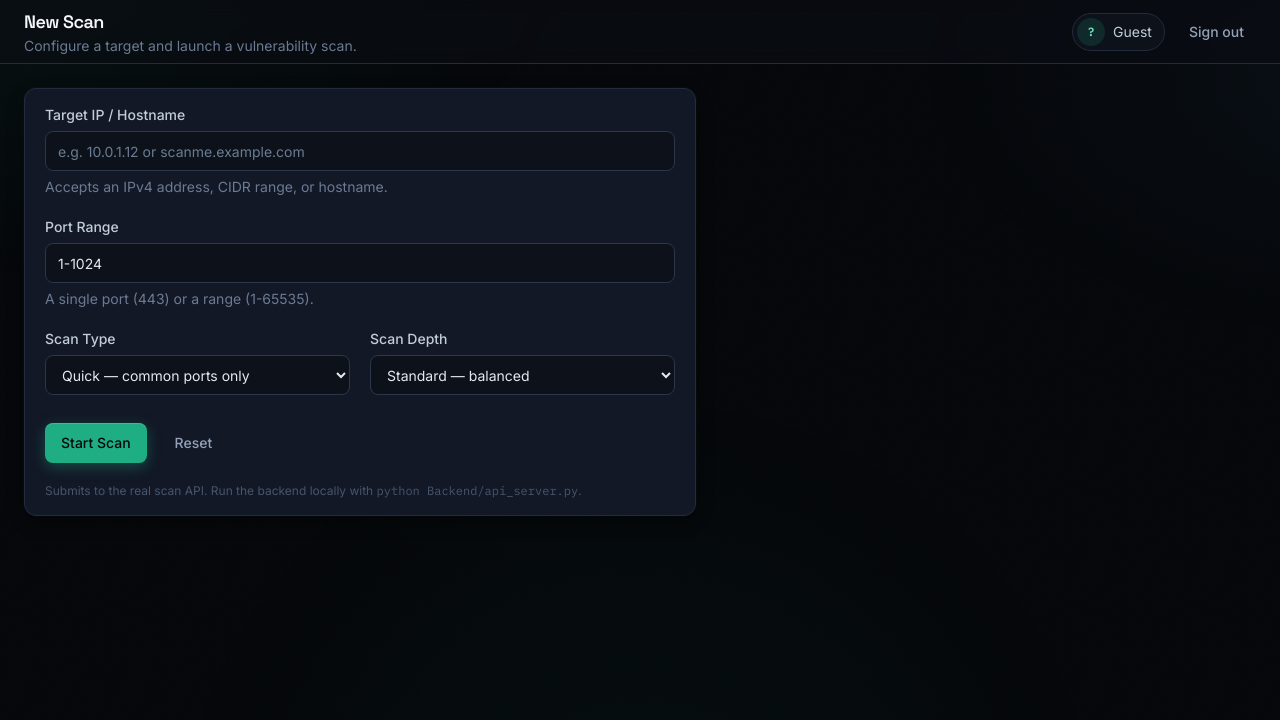
NewScan › shows a connection error when the backend is unreachable
This screenshot has width=1280, height=720.
In the field labelled "Target IP / Hostname": (360, 151) [45,131,675,171], type "10.0.1.12"
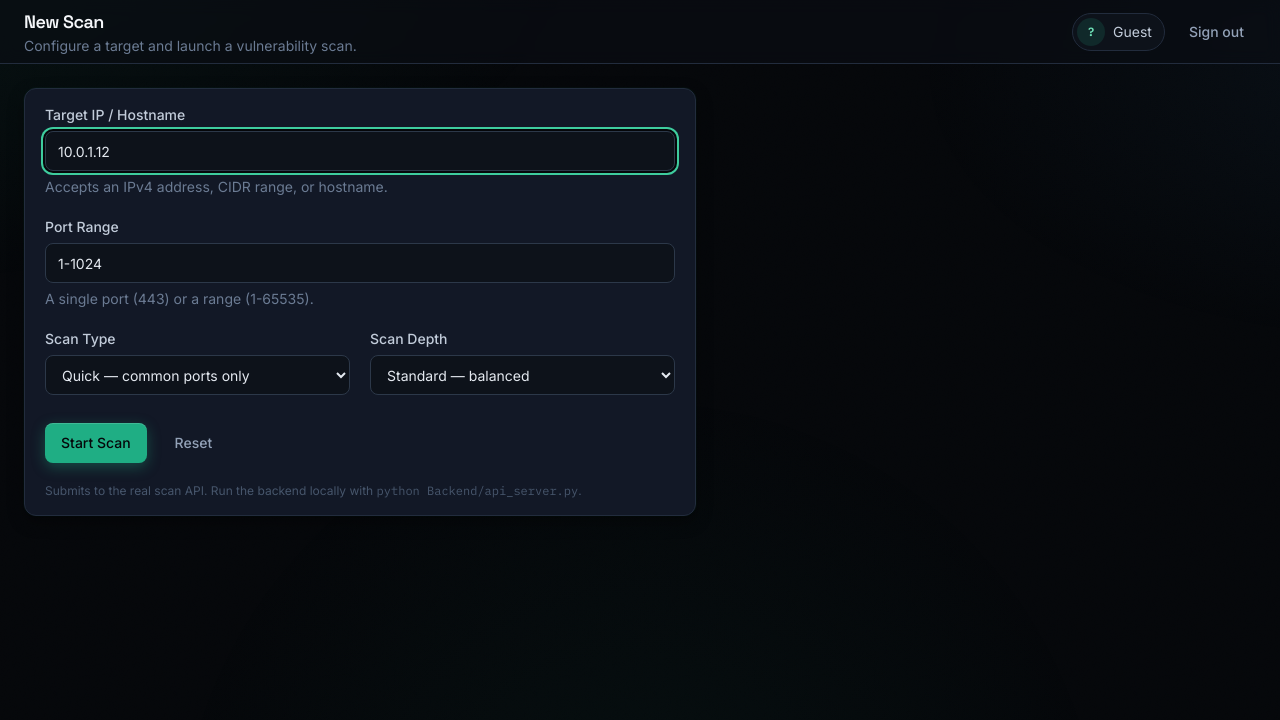
Click the button "Start Scan": (96, 443) [45,423,147,463]
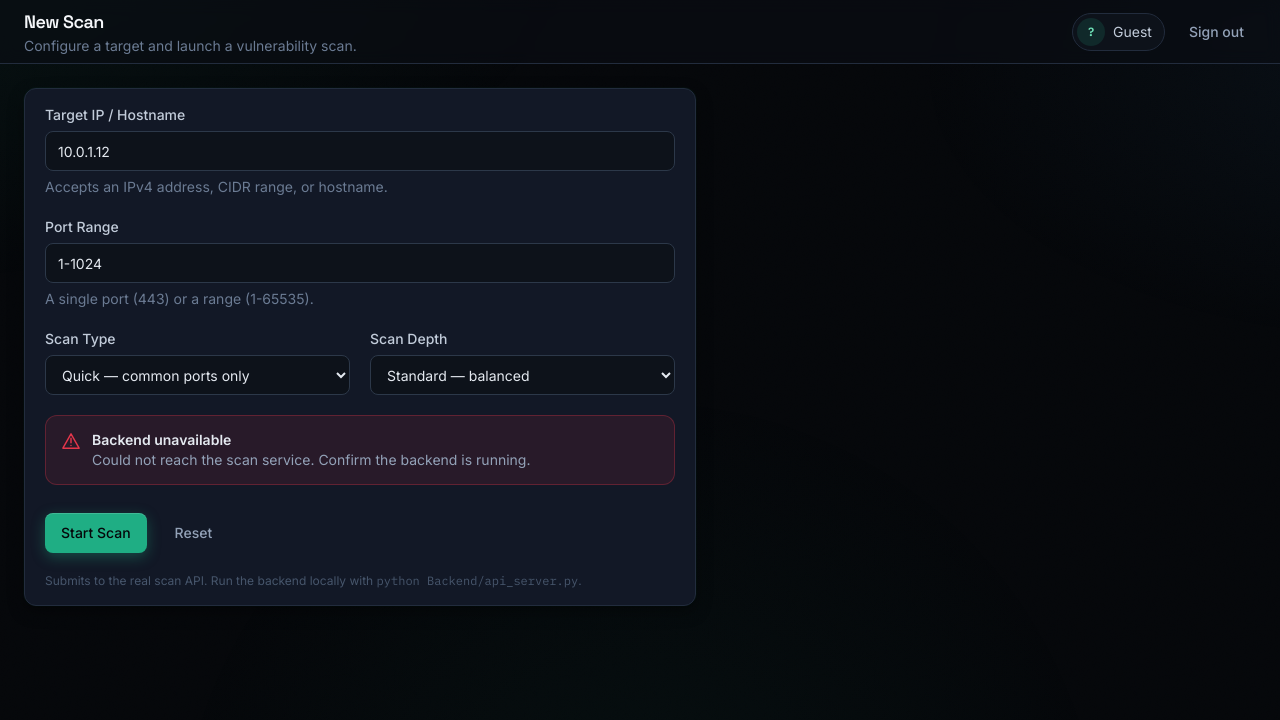
Expected: the text "Backend unavailable" is shown, [92,431,231,448]
Expected: the text "Could not reach the scan service. Confirm the backend is running." is shown, [92,451,530,468]
